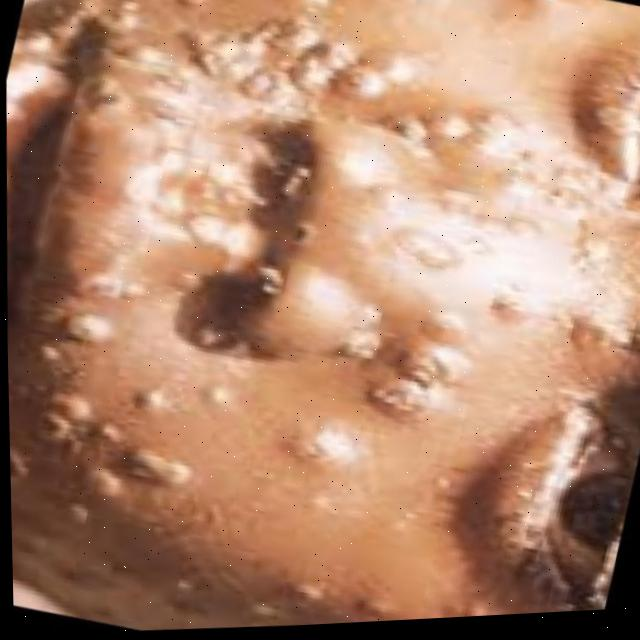Eczema: (1, 40, 535, 558)
